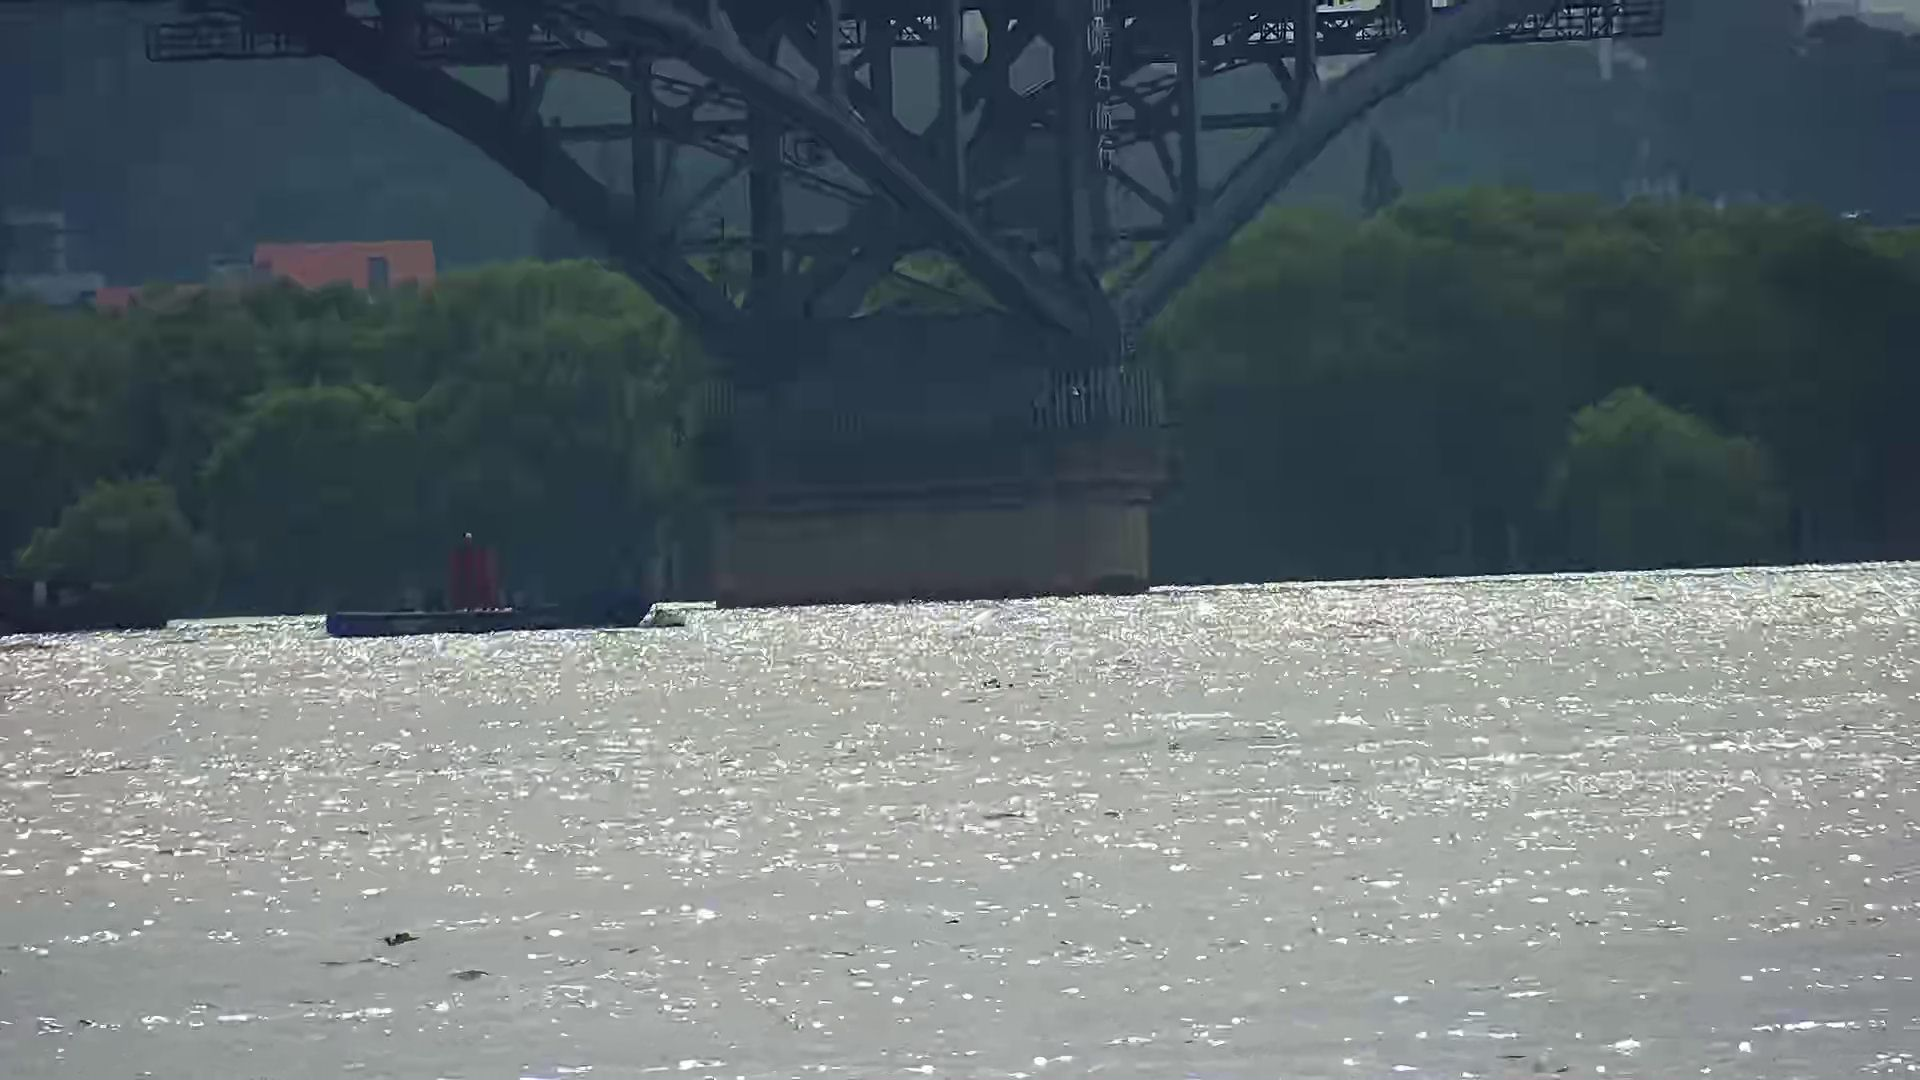boat: (328, 531, 654, 642)
bridge: (146, 1, 1668, 608)
ship: (1, 566, 161, 632)
